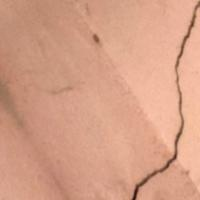crack: (132, 2, 199, 199)
